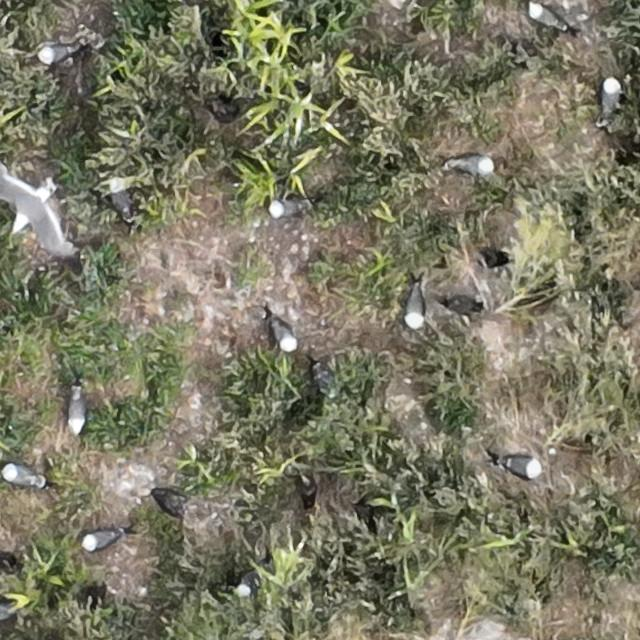F: (4, 169, 62, 250)
umineko: (2, 466, 40, 487), (502, 457, 540, 478), (451, 156, 495, 174), (67, 391, 85, 432), (530, 6, 561, 29), (272, 322, 296, 350), (406, 290, 424, 326), (82, 532, 118, 550), (272, 199, 307, 217), (39, 45, 72, 64), (112, 185, 132, 216), (602, 79, 620, 111), (237, 570, 258, 596)
